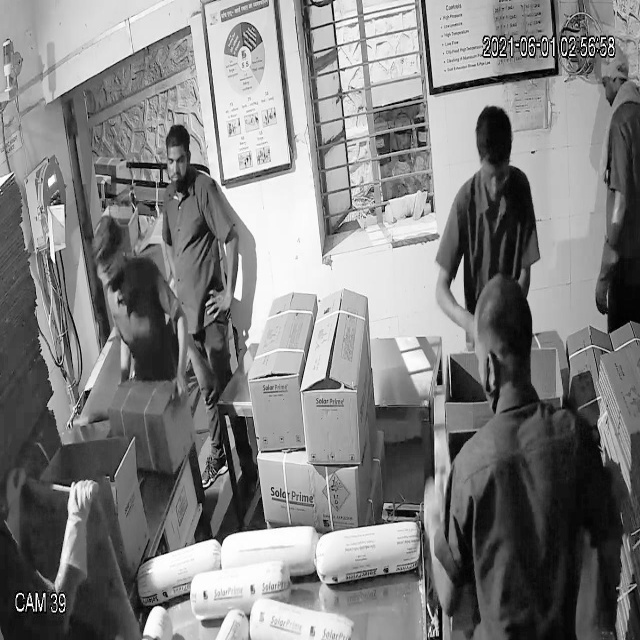Sin_gafas: (161, 147, 195, 180)
